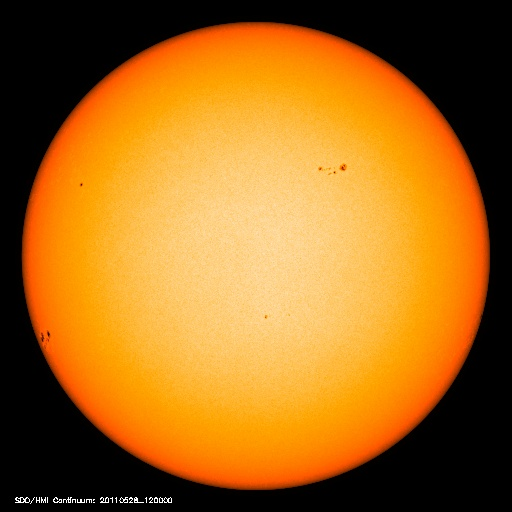sunspot: (311, 153, 352, 183), (65, 169, 96, 204), (30, 323, 61, 353), (248, 308, 281, 333)
